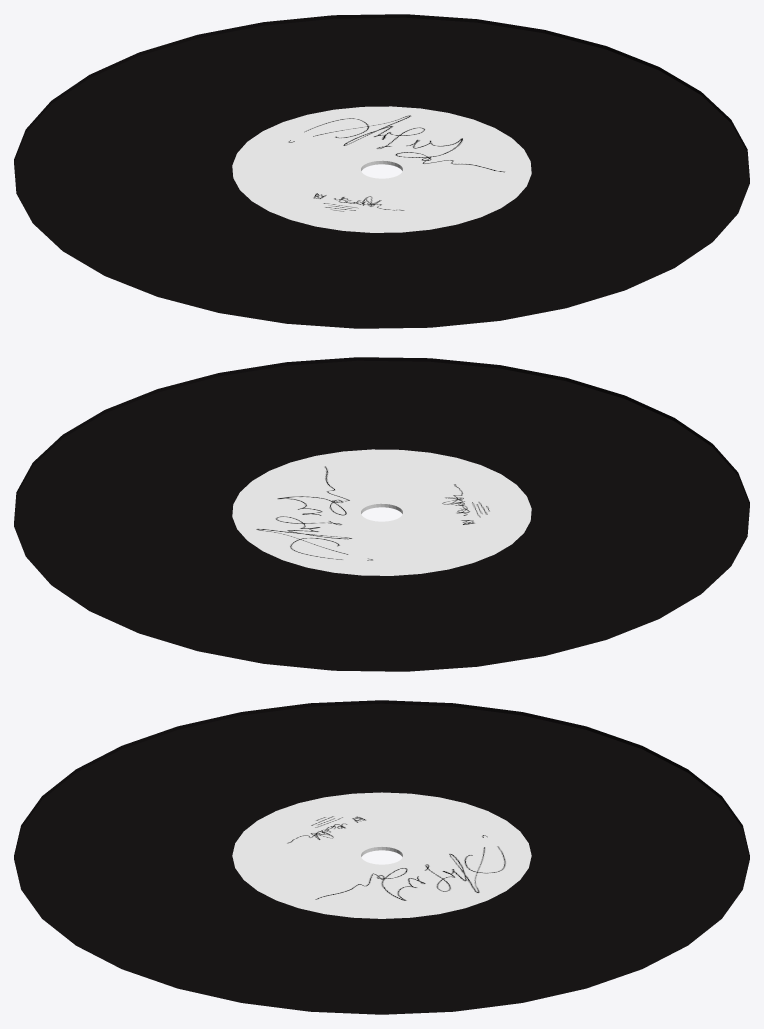
Rendered from vinyl.fbx.
3 views of the same model, one above another, from view 1: azimuth 30°, elevation 25°; view 2: azimuth 150°, elevation 25°; view 3: azimuth 270°, elevation 25° (orthographic).
Parts seen in each view (by area): view 1: Circle.002; view 2: Circle.002; view 3: Circle.002.
Boxes of the visible parts, x1,y1,x2,y2 form: Circle.002: (14, 14, 749, 328); Circle.002: (14, 357, 749, 671); Circle.002: (14, 700, 749, 1014).
Bounding box in the file's own units: 200 × 1.06 × 200.
